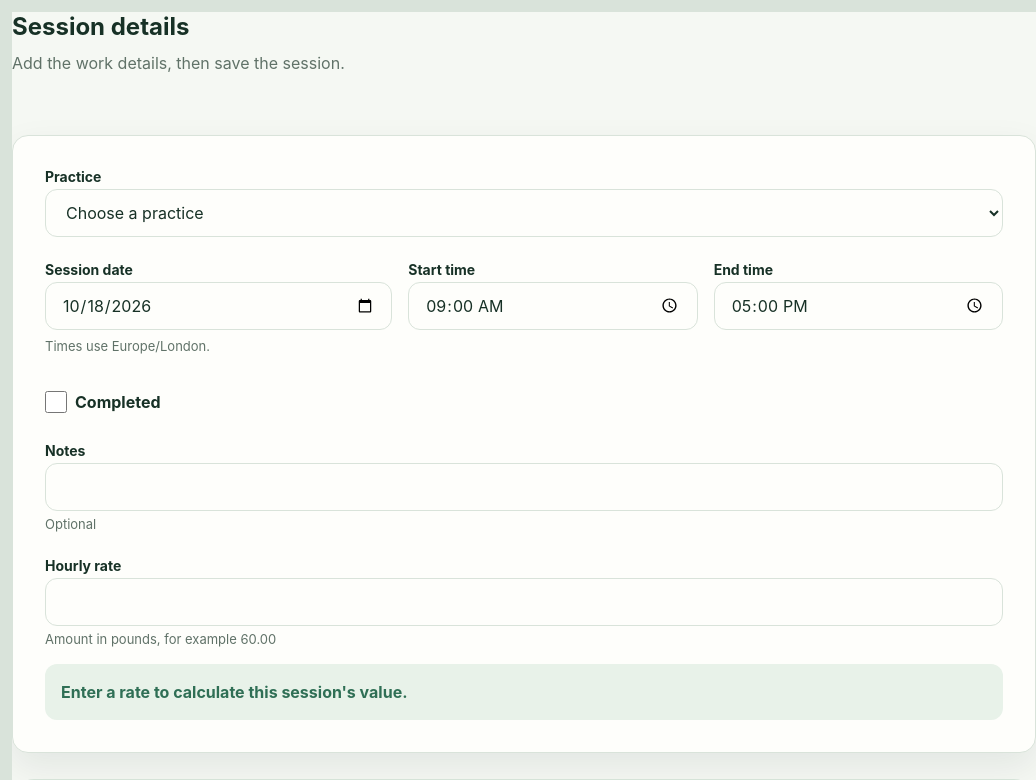
SessionForm › fills a default rate on first practice selection
Select "Springfield Medical Centre" in the dropdown labelled "Practice" at (524, 213), box x1=45 y1=189 x2=1003 y2=237
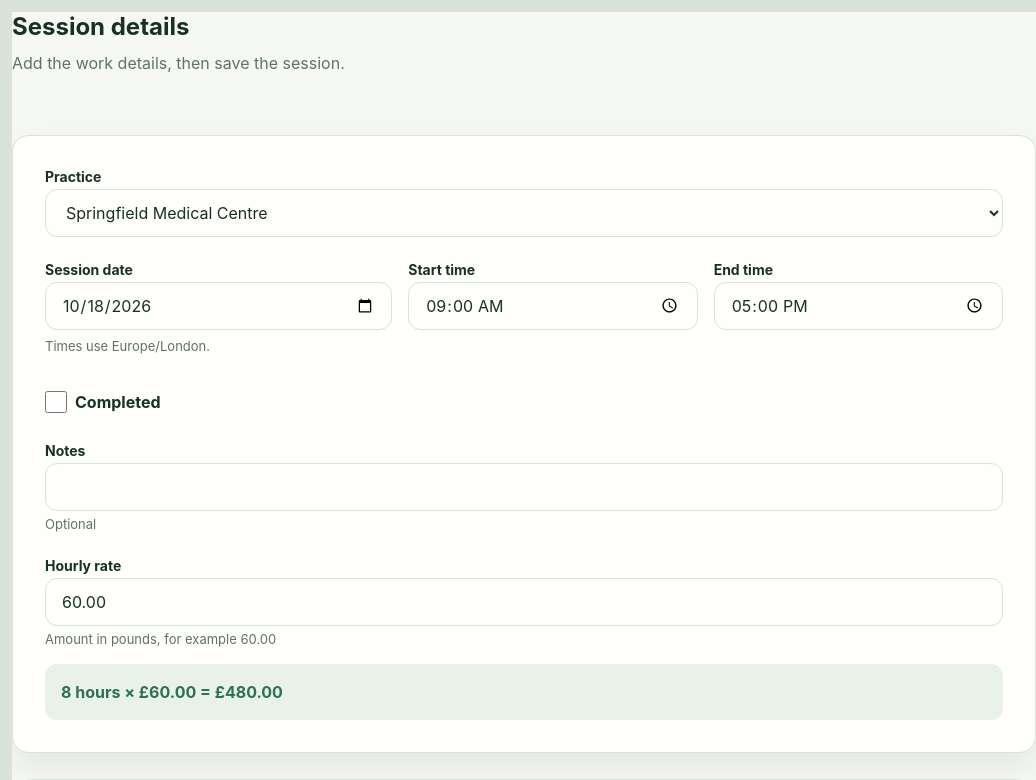
Check: the field labelled "Hourly rate" holds "60.00", box x1=45 y1=578 x2=1003 y2=626
